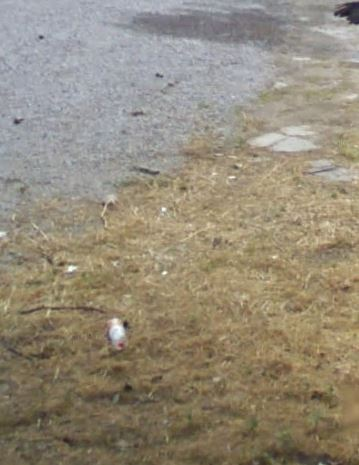trash: (101, 308, 135, 356)
